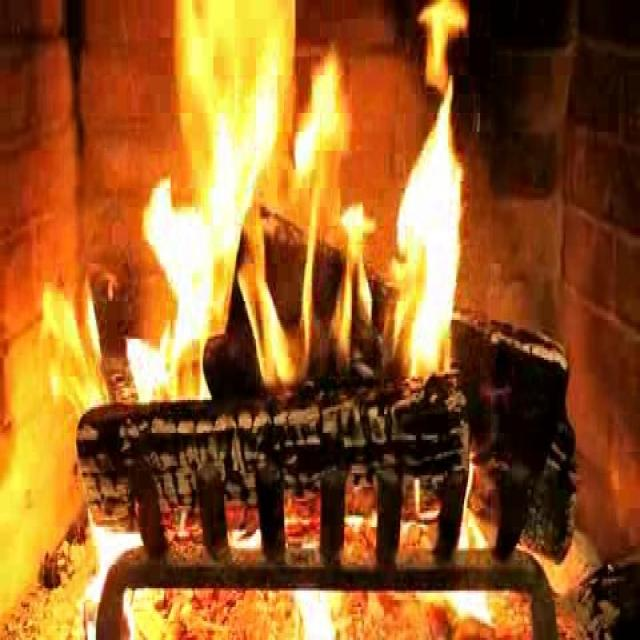fire: (137, 182, 447, 402)
